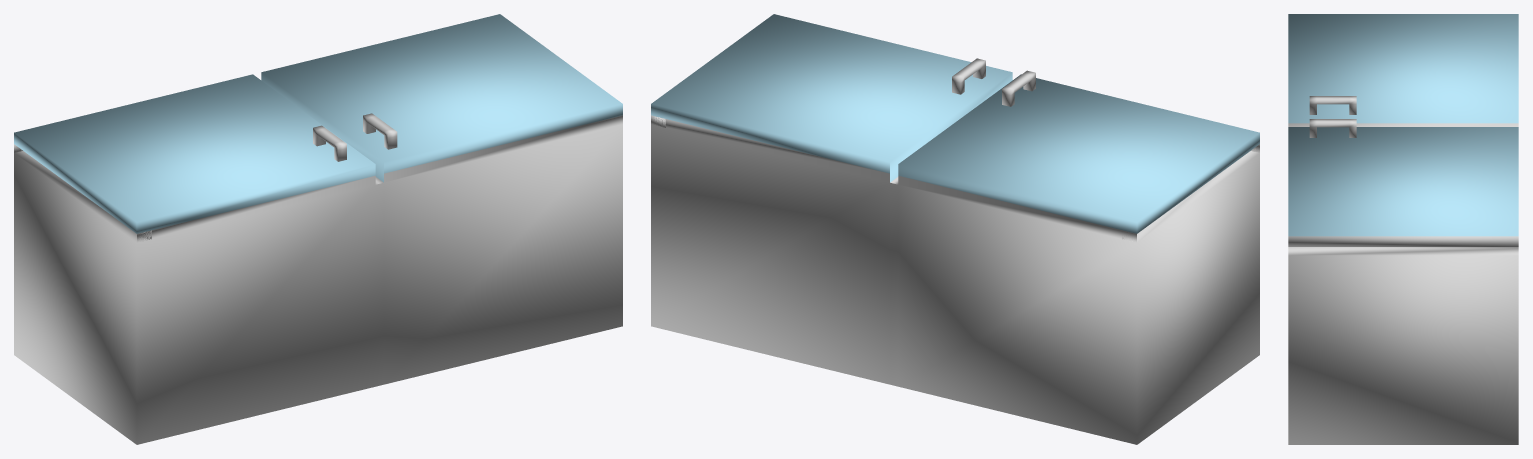
The model's file is huge_fly_closet.fbx.
3 views of the same model, side by side, from view 1: azimuth 30°, elevation 25°; view 2: azimuth 150°, elevation 25°; view 3: azimuth 270°, elevation 25° (orthographic). The views are drawn at different scales.
Parts seen in each view (by area): view 1: Навесной большой; view 2: Навесной большой; view 3: Навесной большой.
Boxes of the visible parts, x1=… form: Навесной большой: x1=14, y1=14, x2=622, y2=444; Навесной большой: x1=651, y1=14, x2=1259, y2=444; Навесной большой: x1=1288, y1=14, x2=1518, y2=444.
Size of the model in its own units: 80 by 37.55 by 35.
